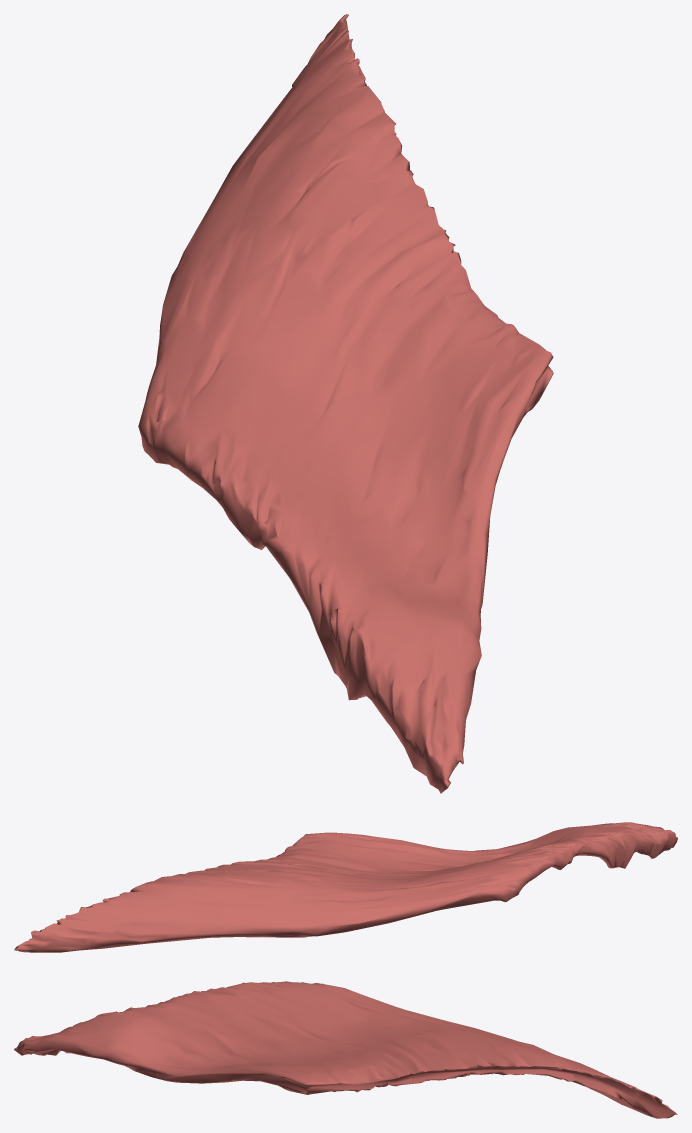
3 views of the same model, one above another, from view 1: azimuth 30°, elevation 25°; view 2: azimuth 150°, elevation 25°; view 3: azimuth 270°, elevation 25° (orthographic). The views are drawn at different scales.
Parts seen in each view (by area): view 1: 左侧大菱形肌; view 2: 左侧大菱形肌; view 3: 左侧大菱形肌.
Part boxes in pixels (bbox=[...]): 左侧大菱形肌: bbox=[138, 14, 553, 793]; 左侧大菱形肌: bbox=[14, 822, 677, 952]; 左侧大菱形肌: bbox=[14, 981, 677, 1118].
Bounding box in the file's own units: 0.1304 × 0.0456 × 0.2653.
